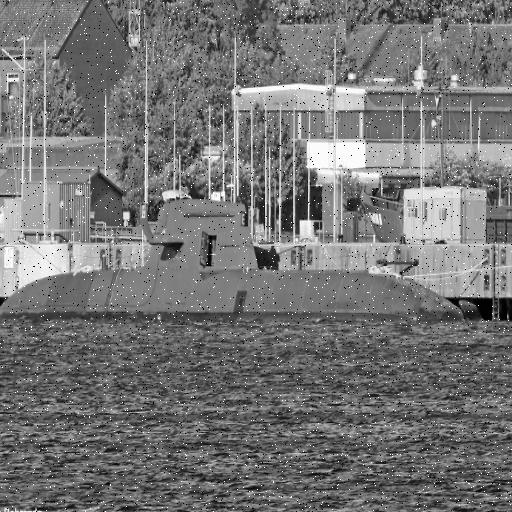submarine: (1, 202, 472, 321)
